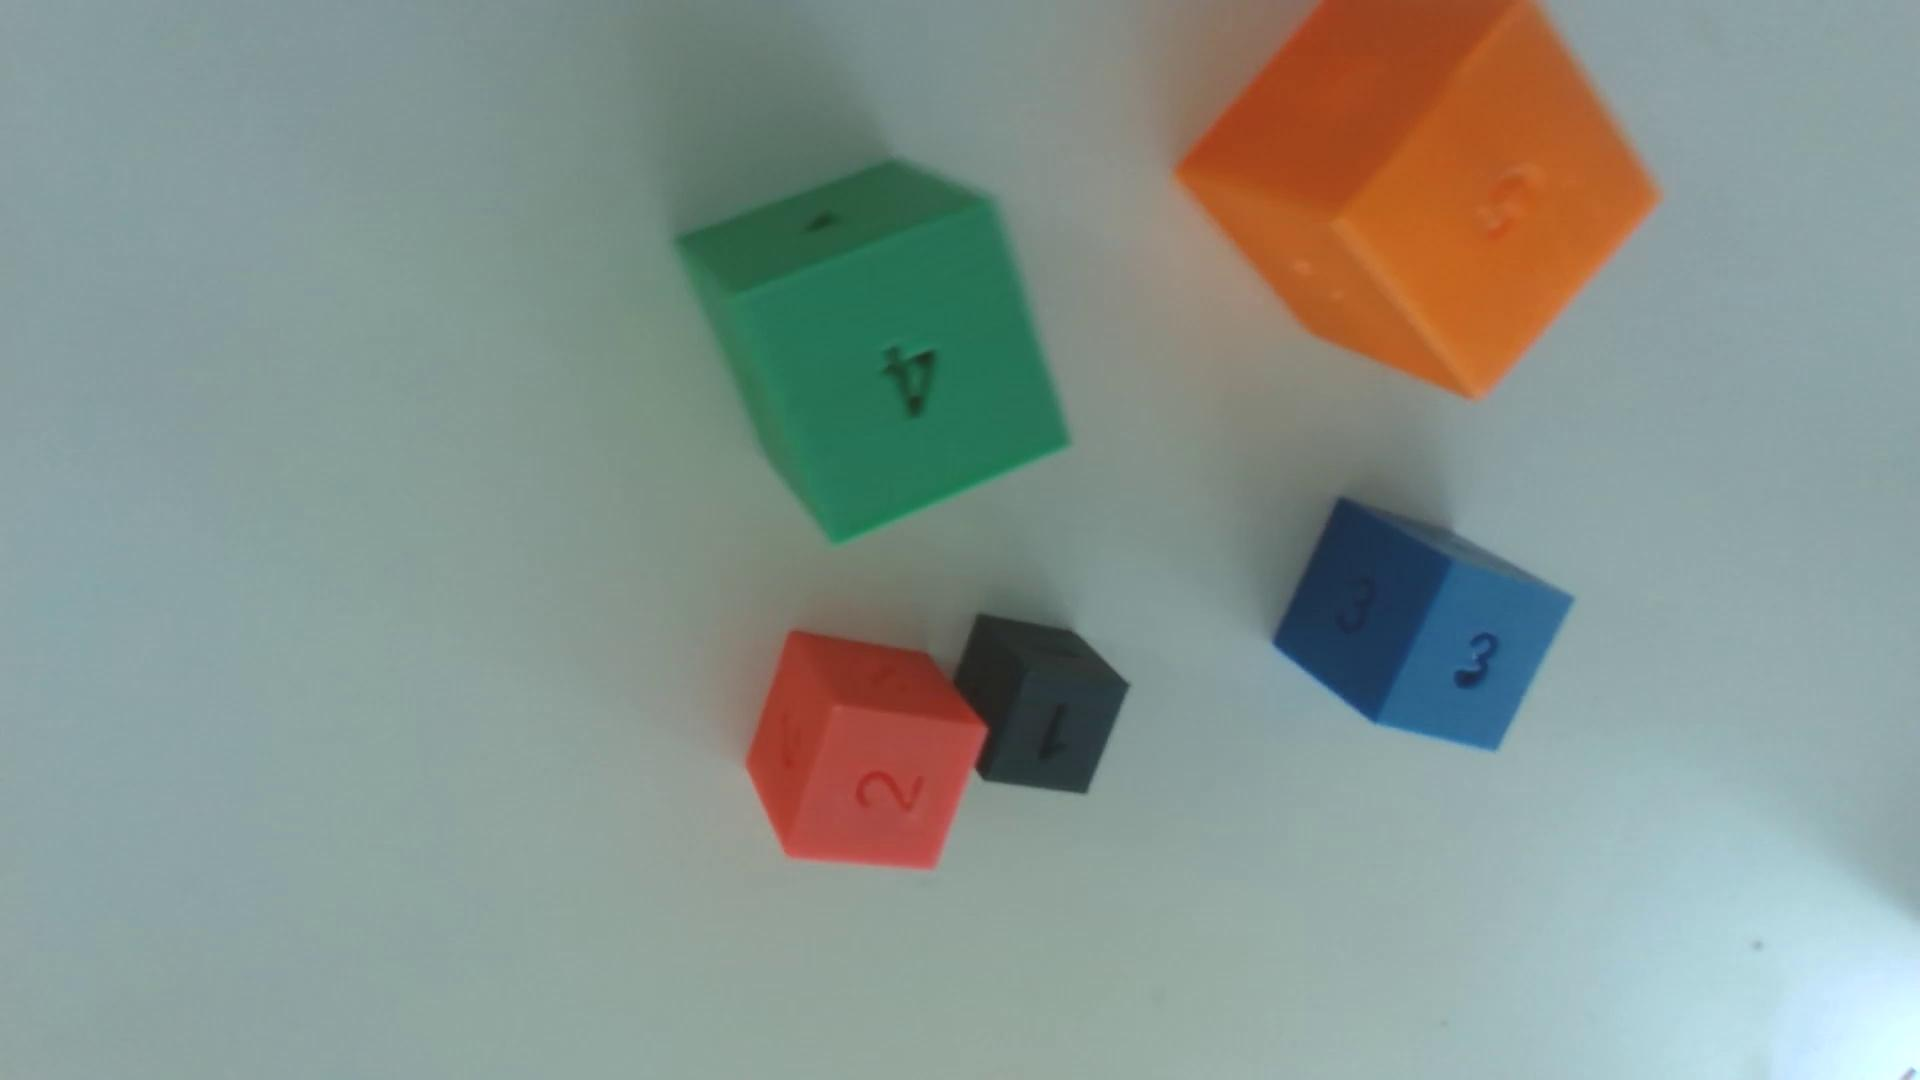black: (956, 613, 1130, 793)
blue: (1273, 497, 1572, 750)
green: (676, 160, 1068, 541)
orange: (1178, 0, 1658, 397)
red: (746, 629, 986, 868)
